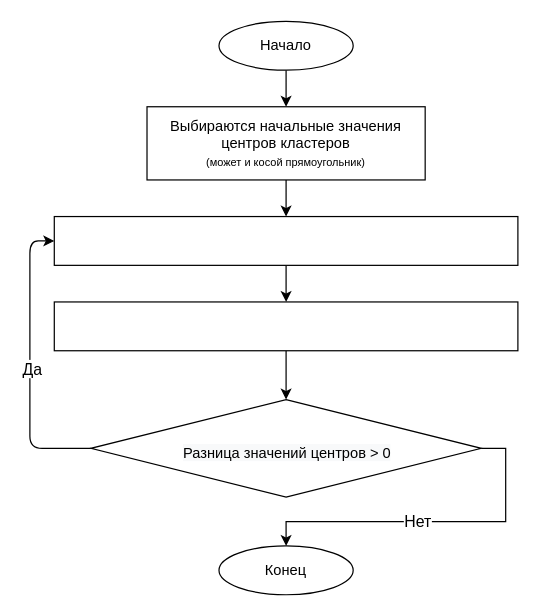
This 539x616 diagram has some shape labels left out. Each missing label, with the centre of its shape:
"Перерасчёт центров кластеризации" belongs at (285,326).
"Разбиение исходной выборки на кластеры по мере близости" belongs at (285,240).
